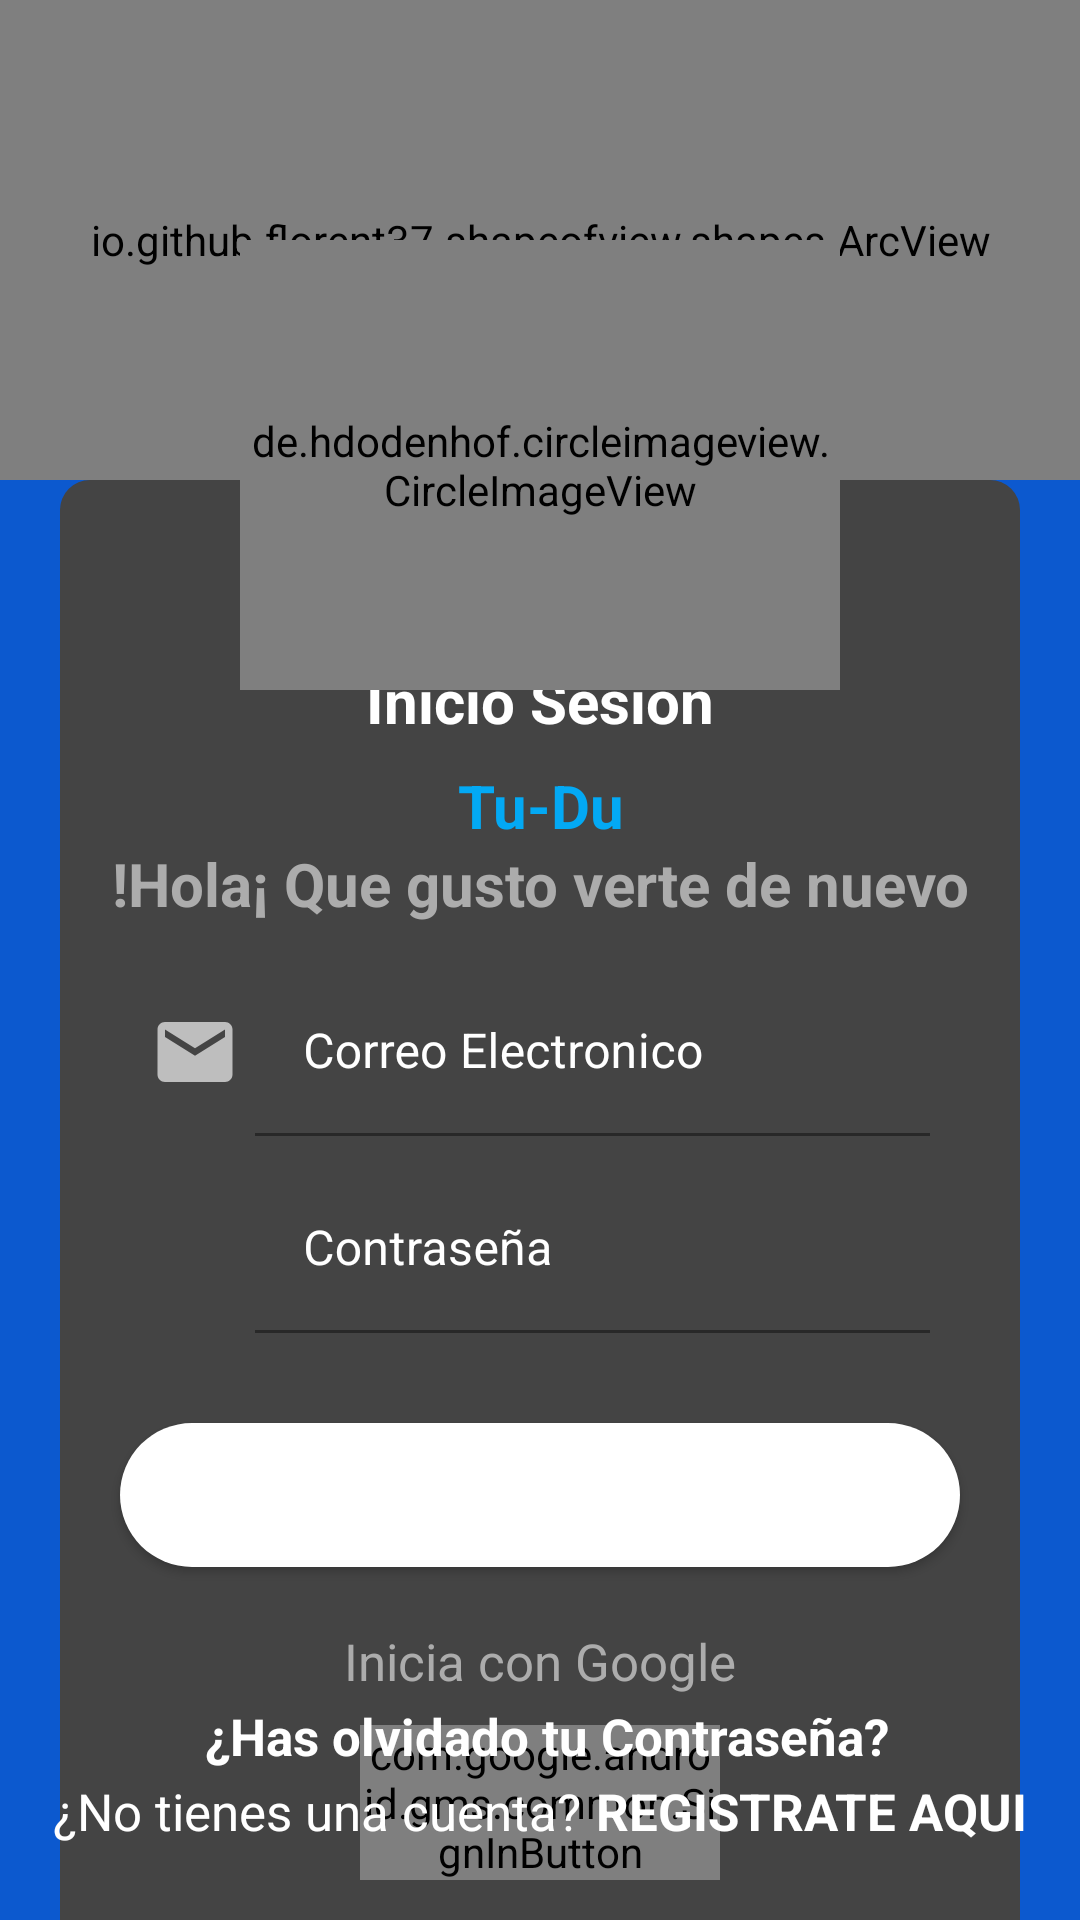

Named icons in this screenshot (1080x1920) and their bounding boxes, (x1, y1, x2, y2):
email: (157, 1022, 233, 1082)
